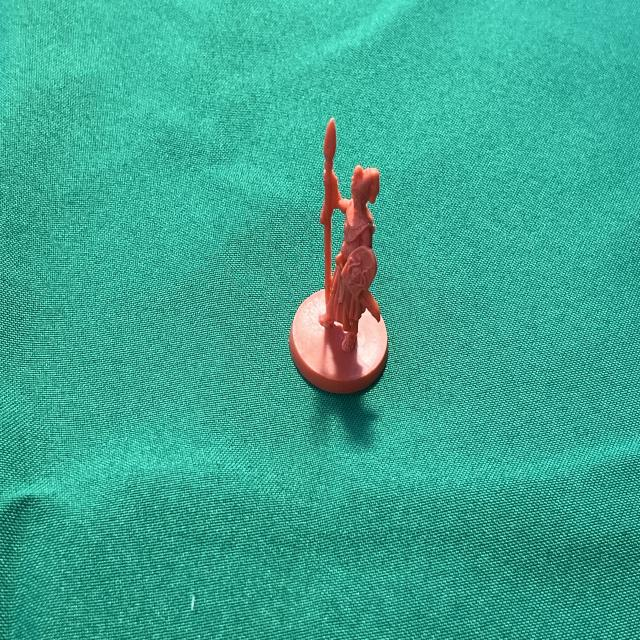amon_follower: (289, 118, 388, 393)
